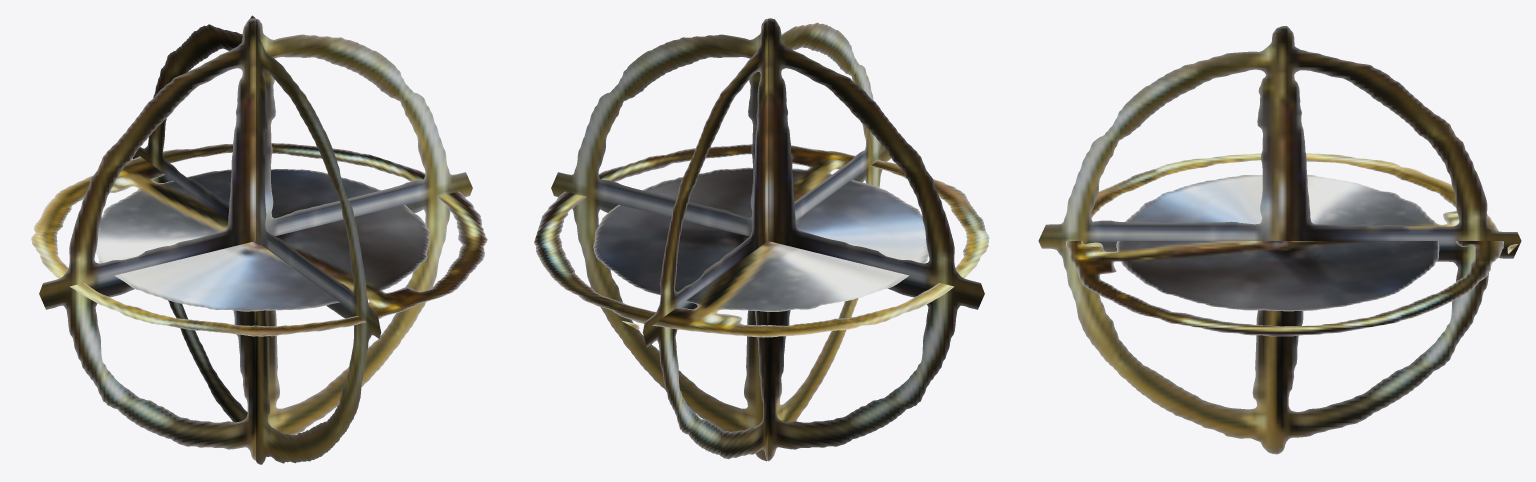
The model's file is ScoreAbleA.fbx.
3 renders of one model, left to right at view 1: azimuth 30°, elevation 25°; view 2: azimuth 150°, elevation 25°; view 3: azimuth 270°, elevation 25°, orthographic. The views are drawn at different scales.
Parts seen in each view (by area): view 1: Circle; view 2: Circle; view 3: Circle.
Part boxes in pixels (x1=…): Circle: x1=31, y1=15, x2=487, y2=464; Circle: x1=534, y1=18, x2=989, y2=461; Circle: x1=1038, y1=26, x2=1521, y2=454.
Size of the model in its own units: 200 by 200 by 200.
